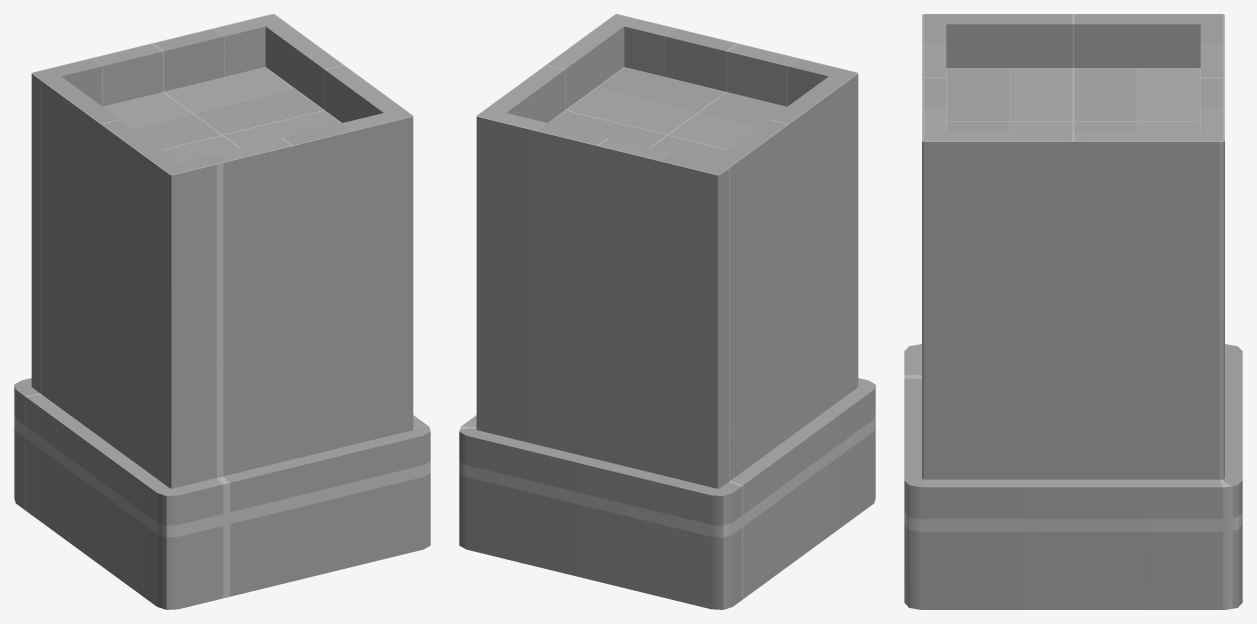
The model's file is proto_column_top_01.fbx.
3 renders of one model, left to right at view 1: azimuth 30°, elevation 25°; view 2: azimuth 150°, elevation 25°; view 3: azimuth 270°, elevation 25°, orthographic. The views are drawn at different scales.
Parts seen in each view (by area): view 1: proto_column_top_01; view 2: proto_column_top_01; view 3: proto_column_top_01.
Boxes of the visible parts, box(x1,y1,x2,y2) form: proto_column_top_01: box(14, 14, 430, 609); proto_column_top_01: box(459, 14, 875, 609); proto_column_top_01: box(904, 14, 1242, 609).
Size of the model in its own units: 50 by 75.03 by 50.
